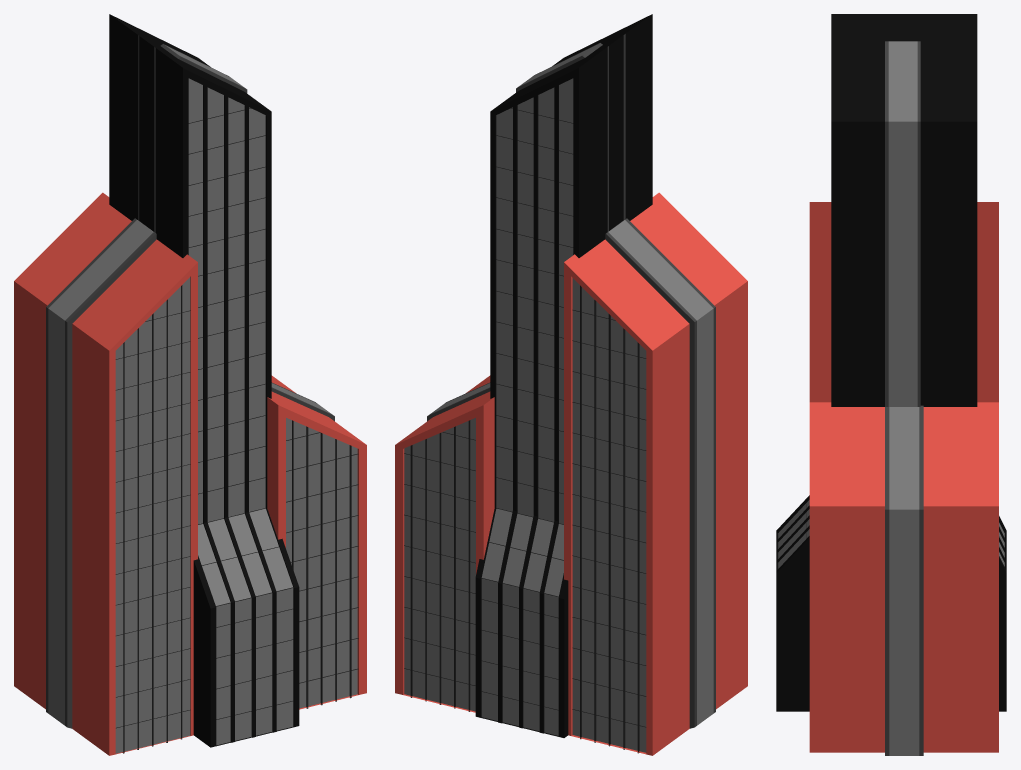
File: Skyscraper_5.fbx
The picture shows the model from 3 angles, left to right: view 1: azimuth 30°, elevation 25°; view 2: azimuth 150°, elevation 25°; view 3: azimuth 270°, elevation 25°; orthographic projection.
Visible parts, largest first — view 1: Cube.014, Cube.340, Cube.043, Cube.349, Cube.341, Cube.343, Cube.342, Cube.351, Cube.344; view 2: Cube.014, Cube.340, Cube.043, Cube.352, Cube.345, Cube.347, Cube.346, Cube.354, Cube.348; view 3: Cube.043, Cube.340, Cube.014, Cube.349.
Part boxes in pixels (box(x1,y1,x2,y2)): Cube.014: box(14, 192, 197, 755); Cube.340: box(109, 14, 299, 747); Cube.043: box(267, 375, 366, 709); Cube.349: box(203, 85, 276, 742); Cube.341: box(122, 285, 182, 753); Cube.343: box(292, 420, 351, 708); Cube.342: box(115, 310, 190, 728); Cube.351: box(188, 108, 265, 524); Cube.344: box(286, 432, 358, 683); Cube.014: box(564, 192, 747, 755); Cube.340: box(475, 14, 652, 737); Cube.043: box(395, 375, 494, 712); Cube.352: box(498, 85, 558, 733); Cube.345: box(580, 285, 639, 753); Cube.347: box(410, 420, 470, 711); Cube.346: box(572, 309, 646, 727); Cube.354: box(496, 108, 573, 524); Cube.348: box(404, 432, 475, 685); Cube.043: box(809, 402, 998, 755); Cube.340: box(776, 14, 1006, 711); Cube.014: box(809, 202, 998, 402); Cube.349: box(777, 505, 809, 569).
Size of the model in its own units: 10021 by 23572 by 7500.
